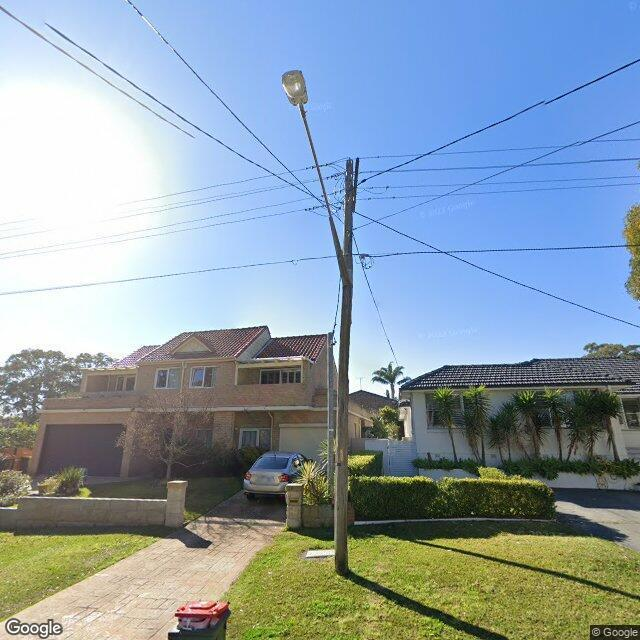crossarm: (353, 157, 361, 206)
steel-pole: (327, 332, 335, 500)
streetlight: (282, 70, 348, 284)
timber-pole: (334, 158, 354, 574)
